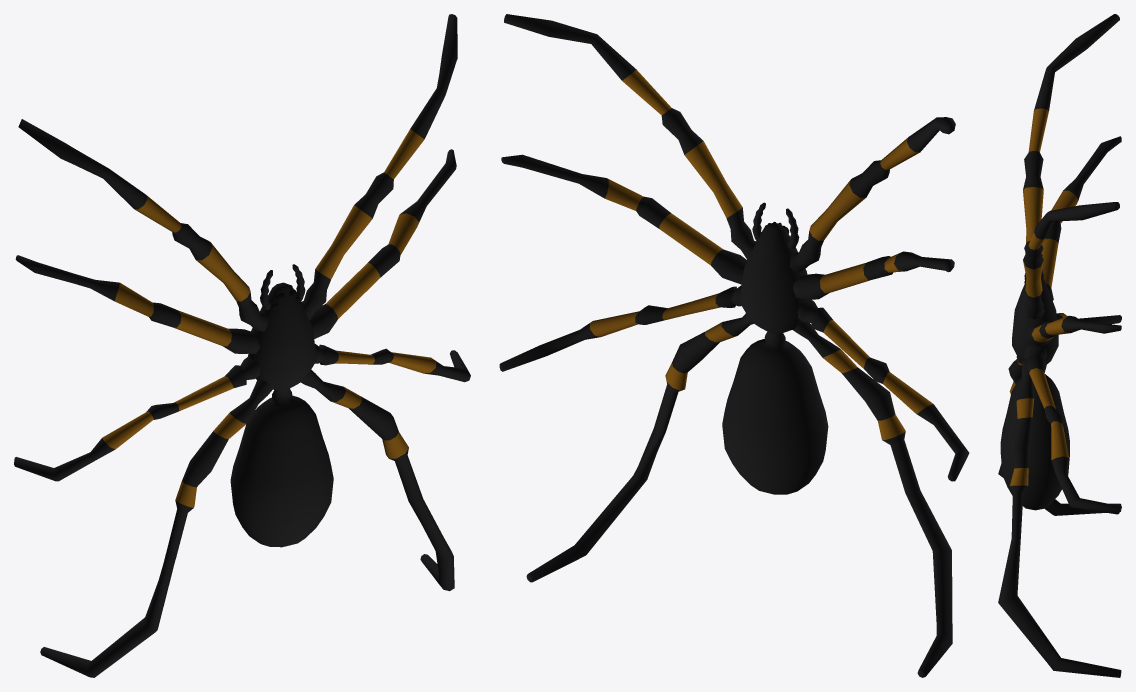
The model's file is spider_basic.obj.
The picture shows the model from 3 angles, left to right: view 1: azimuth 30°, elevation 25°; view 2: azimuth 150°, elevation 25°; view 3: azimuth 270°, elevation 25°; orthographic projection. The views are drawn at different scales.
Parts seen in each view (by area): view 1: 1, 2; view 2: 1, 2; view 3: 1, 2.
Boxes of the visible parts, x1,y1,x2,y2 form: 1: (14, 14, 470, 677); 2: (102, 129, 436, 507); 1: (499, 14, 969, 677); 2: (590, 69, 933, 439); 1: (998, 14, 1121, 677); 2: (1009, 108, 1078, 485).
Size of the model in its own units: 0.2977 by 0.3484 by 0.0803.
